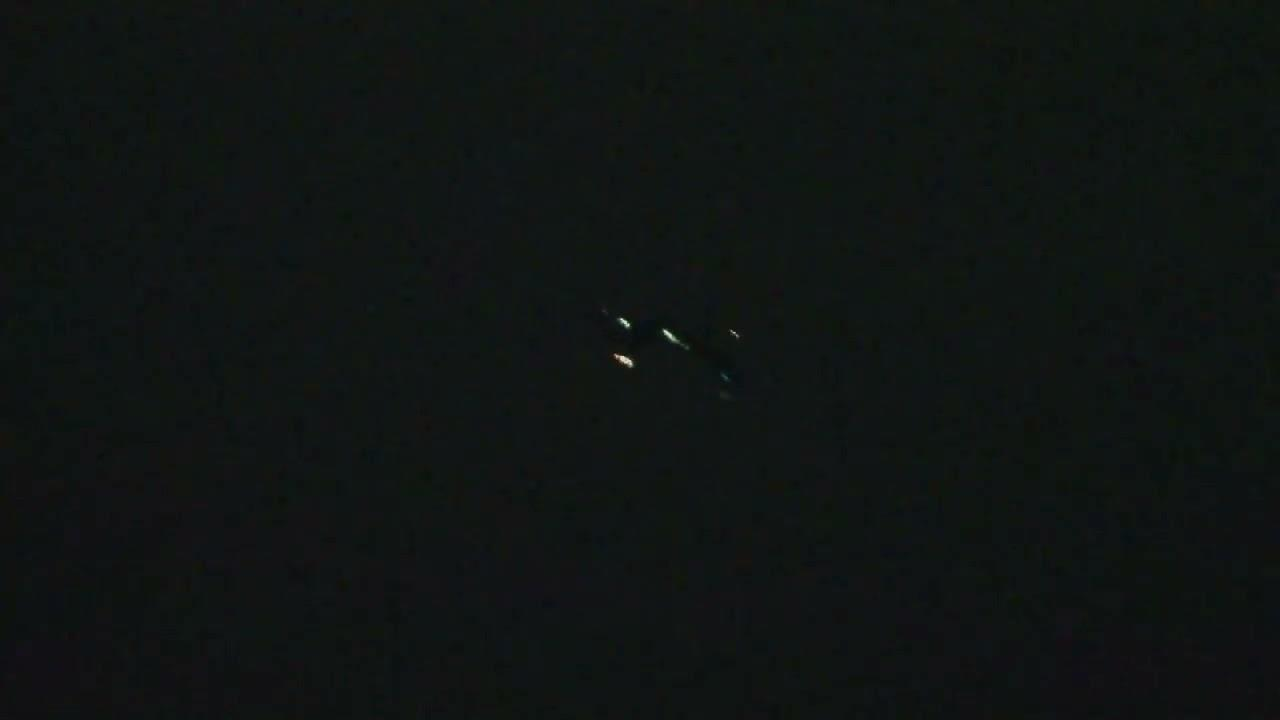Plane: (523, 312, 847, 399)
